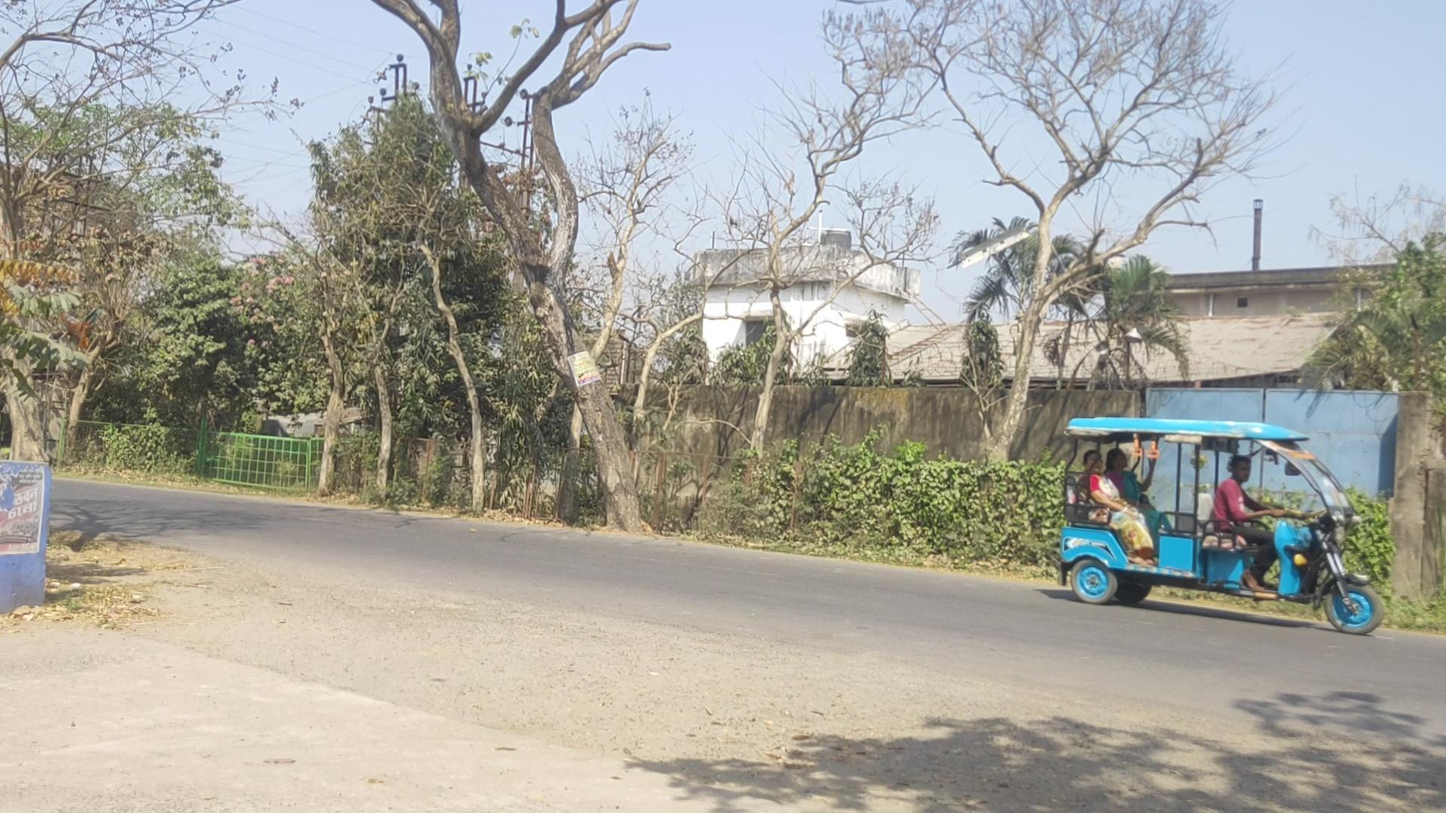Auto: (1059, 416, 1383, 635)
